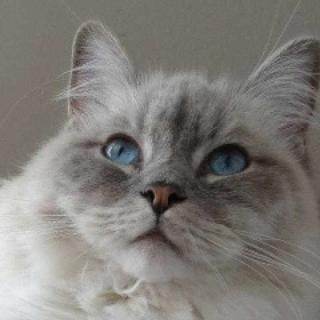cat: (53, 22, 320, 288)
nose: (138, 174, 188, 220)
